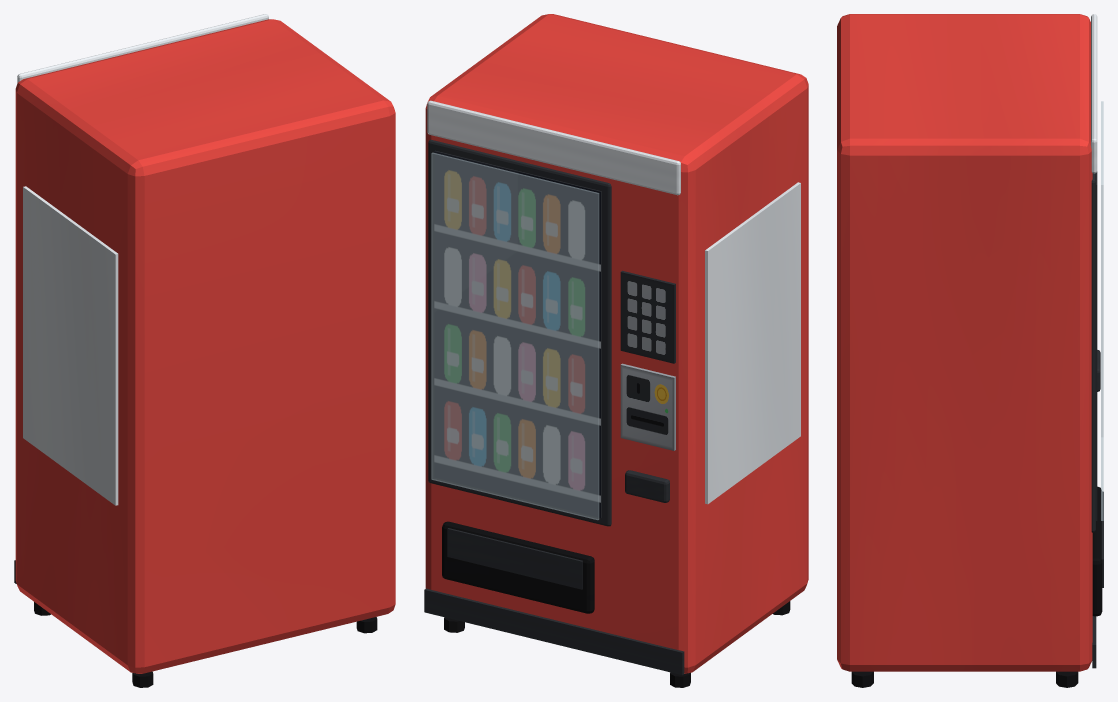
The model's file is SW_VendingMachine.glb.
3 renders of one model, left to right at view 1: azimuth 30°, elevation 25°; view 2: azimuth 150°, elevation 25°; view 3: azimuth 270°, elevation 25°, orthographic. The views are drawn at different scales.
Parts seen in each view (by area): view 1: Body; view 2: Body, Glass; view 3: Body, Glass.
Part boxes in pixels (bbox=[...]): Body: bbox=[14, 14, 395, 687]; Body: bbox=[424, 14, 808, 687]; Glass: bbox=[431, 152, 599, 519]; Body: bbox=[837, 14, 1103, 687]; Glass: bbox=[1101, 101, 1103, 520].
Bounding box in the file's own units: 1.01 × 1.9 × 0.835.
2 materials, 1 textured.
